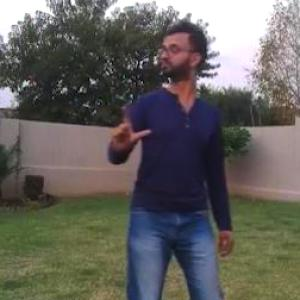land_hand: (104, 95, 156, 156)
